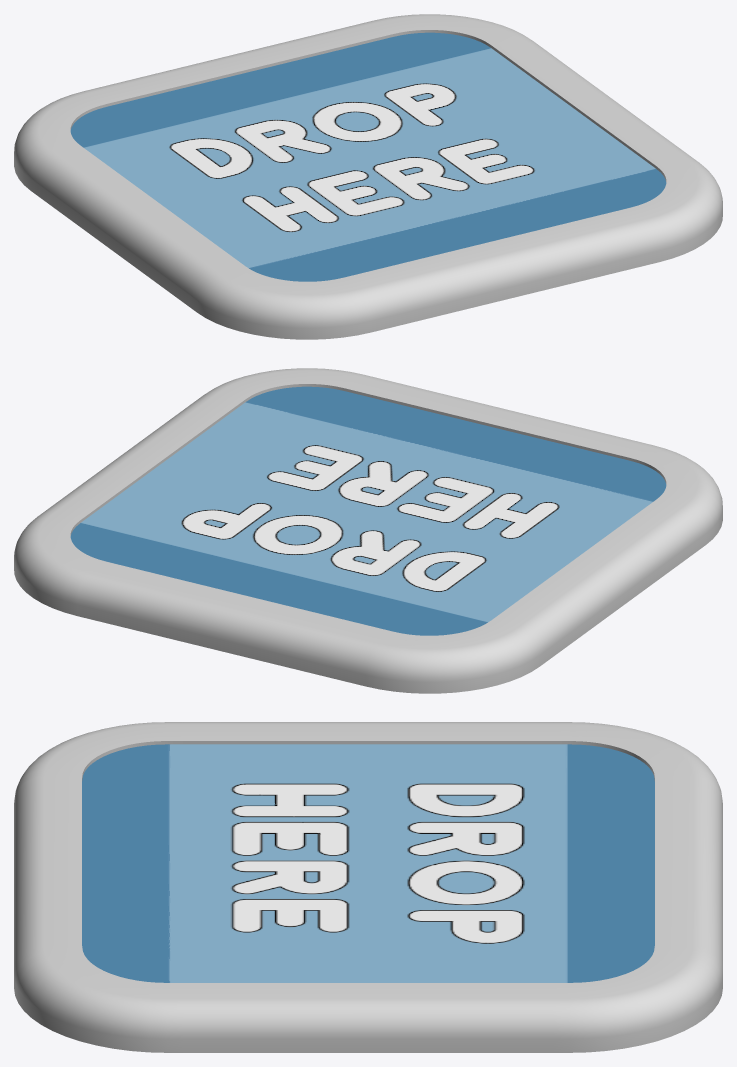
Rendered from stant.fbx.
3 renders of one model, top to bottom at view 1: azimuth 30°, elevation 25°; view 2: azimuth 150°, elevation 25°; view 3: azimuth 270°, elevation 25°, orthographic. The views are drawn at different scales.
Visible parts, largest first — view 1: stant; view 2: stant; view 3: stant.
Part boxes in pixels (x1=…): stant: x1=14, y1=14, x2=722, y2=339; stant: x1=14, y1=368, x2=722, y2=693; stant: x1=14, y1=722, x2=722, y2=1052.
Bounding box in the file's own units: 2 × 0.128 × 2.
